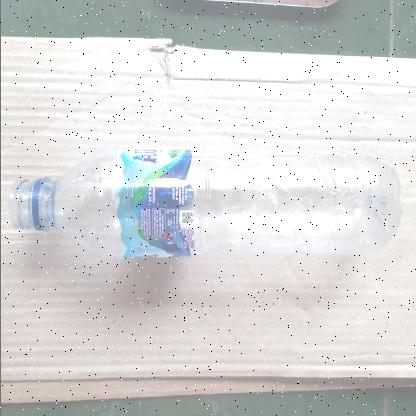Plastic Bottle: (7, 139, 405, 272)
